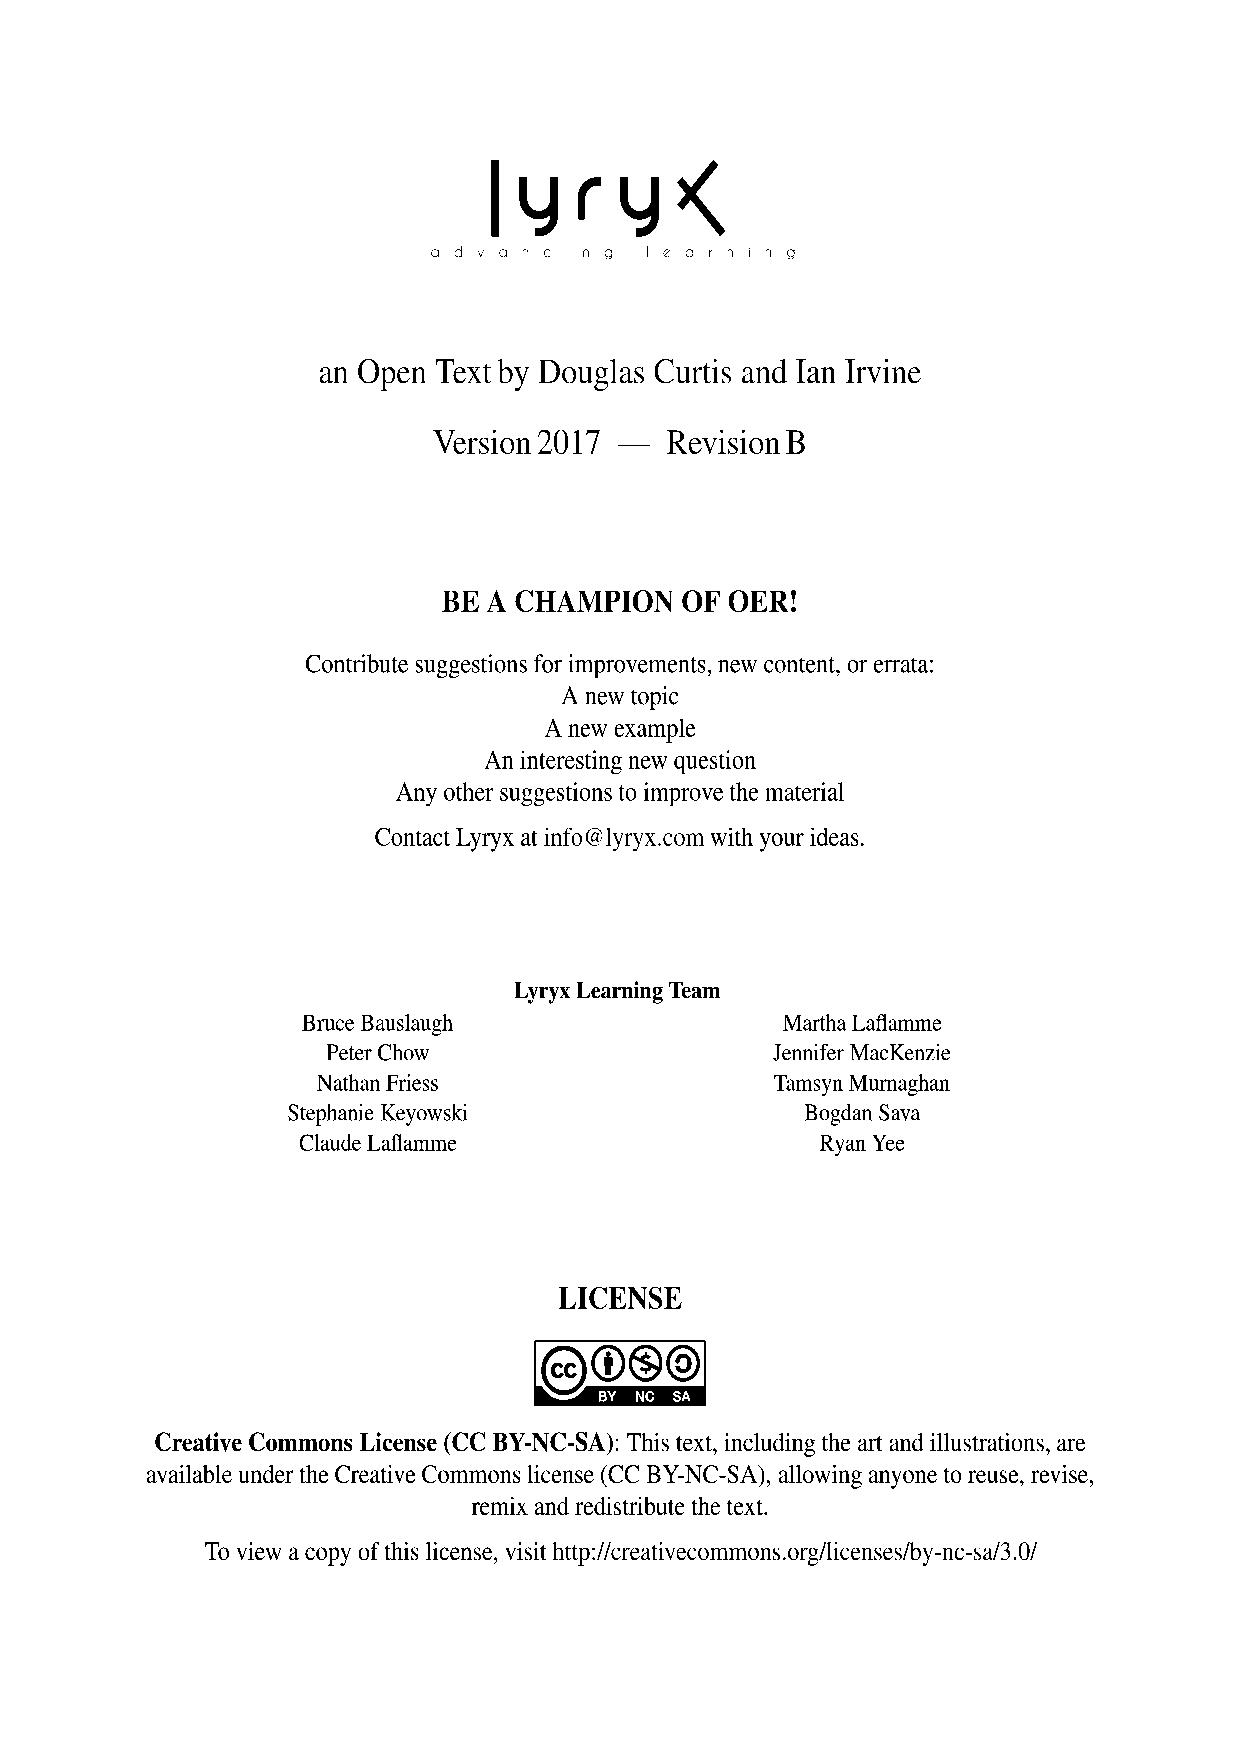title: (313, 354, 925, 393)
